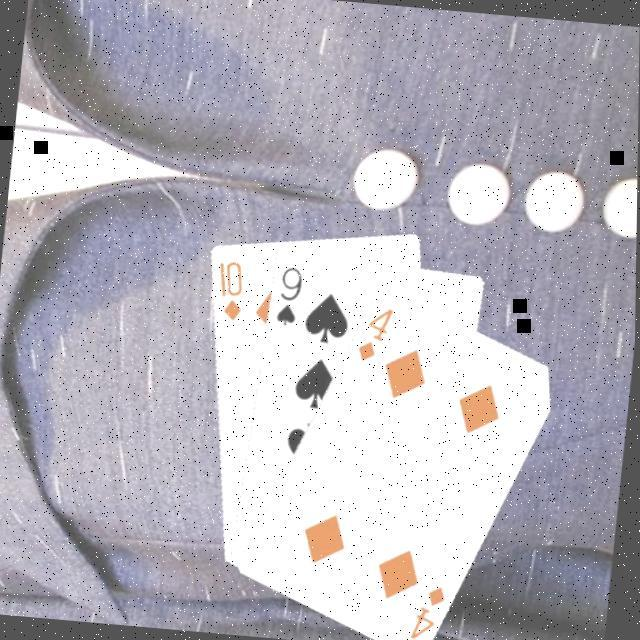10D: (207, 256, 247, 326)
4D: (351, 302, 395, 367), (406, 580, 450, 640)
9S: (270, 263, 305, 331)
